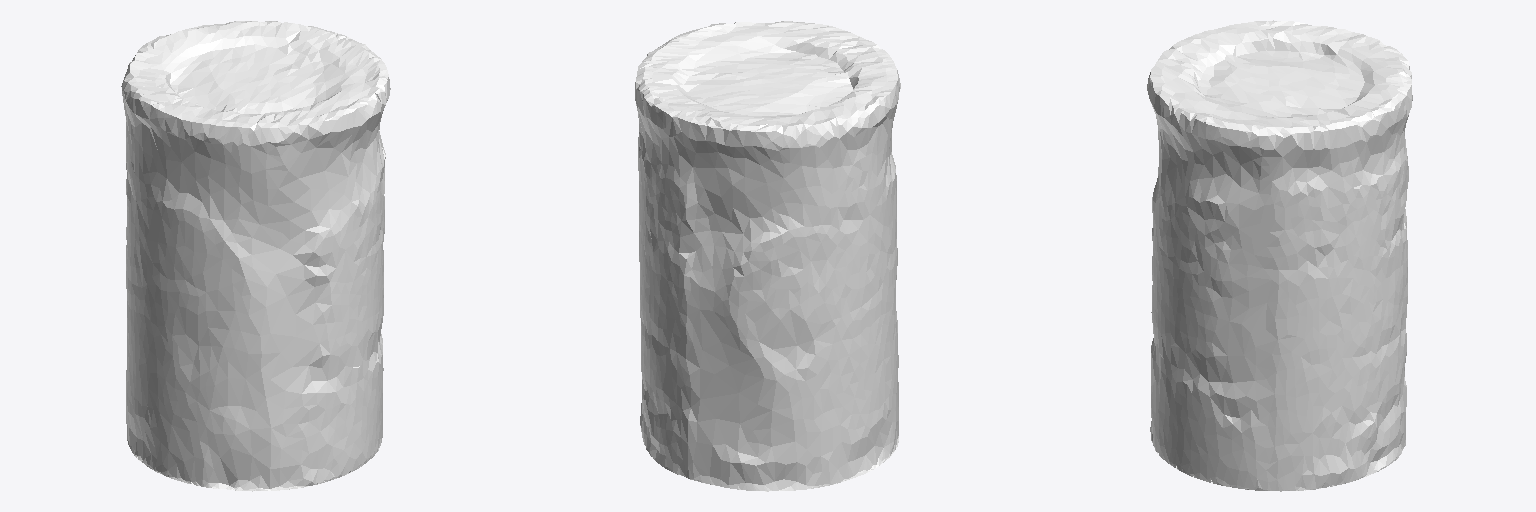
robot.urdf — cappuccino:
<?xml version="1.0" ?>
<robot name="cappuccino">
 <link name="baseLink">
   <contact>
     <lateral_friction value="0.5"/>
   </contact>
   <inertial>
     <origin rpy="0 0 0" xyz="-0.004844 -0.001955 -0.009021"/>
      <mass value="1.0"/>
      <inertia ixx="0.000003" ixy="-0.000000" ixz="-0.000000" iyy="0.000003" iyz="-0.000000" izz="0.000002"/>
   </inertial>
   <visual>
     <origin rpy="0 0 0" xyz="0 0 0"/>
     <geometry>
       <mesh filename="cappuccino.obj" scale="1.0 1.0 1.0"/>
     </geometry>
      <material name="white">
       <color rgba="1 1 1 1"/>
     </material>
   </visual>
   <collision>
     <origin rpy="0 0 0" xyz="0 0 0"/>
     <geometry>
       <mesh filename="cappuccino_vhacd2.obj" scale="1.0 1.0 1.0"/>
     </geometry>
   </collision>
 </link>
</robot>

--- Facts derived from the render (not from the file) ---
The picture shows the robot from 3 angles, left to right: view 1: azimuth 30°, elevation 25°; view 2: azimuth 150°, elevation 25°; view 3: azimuth 270°, elevation 25°; orthographic projection.
Model cappuccino with 1 links and 0 joints (none), rooted at baseLink, posed every joint at zero.
Links seen in each view (by area): view 1: baseLink; view 2: baseLink; view 3: baseLink.
Boxes of the visible links, box(x1,y1,x2,y2) form: baseLink: box(121, 21, 390, 491); baseLink: box(635, 21, 900, 491); baseLink: box(1147, 20, 1412, 491).
Size in the robot's own frame: 0.1039 by 0.1028 by 0.1557 metres.
Meshes: 1 distinct files referenced, 1 mesh visuals loaded (1 OBJ).